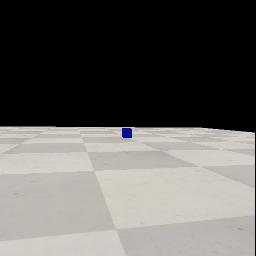box: (122, 128, 132, 138)
